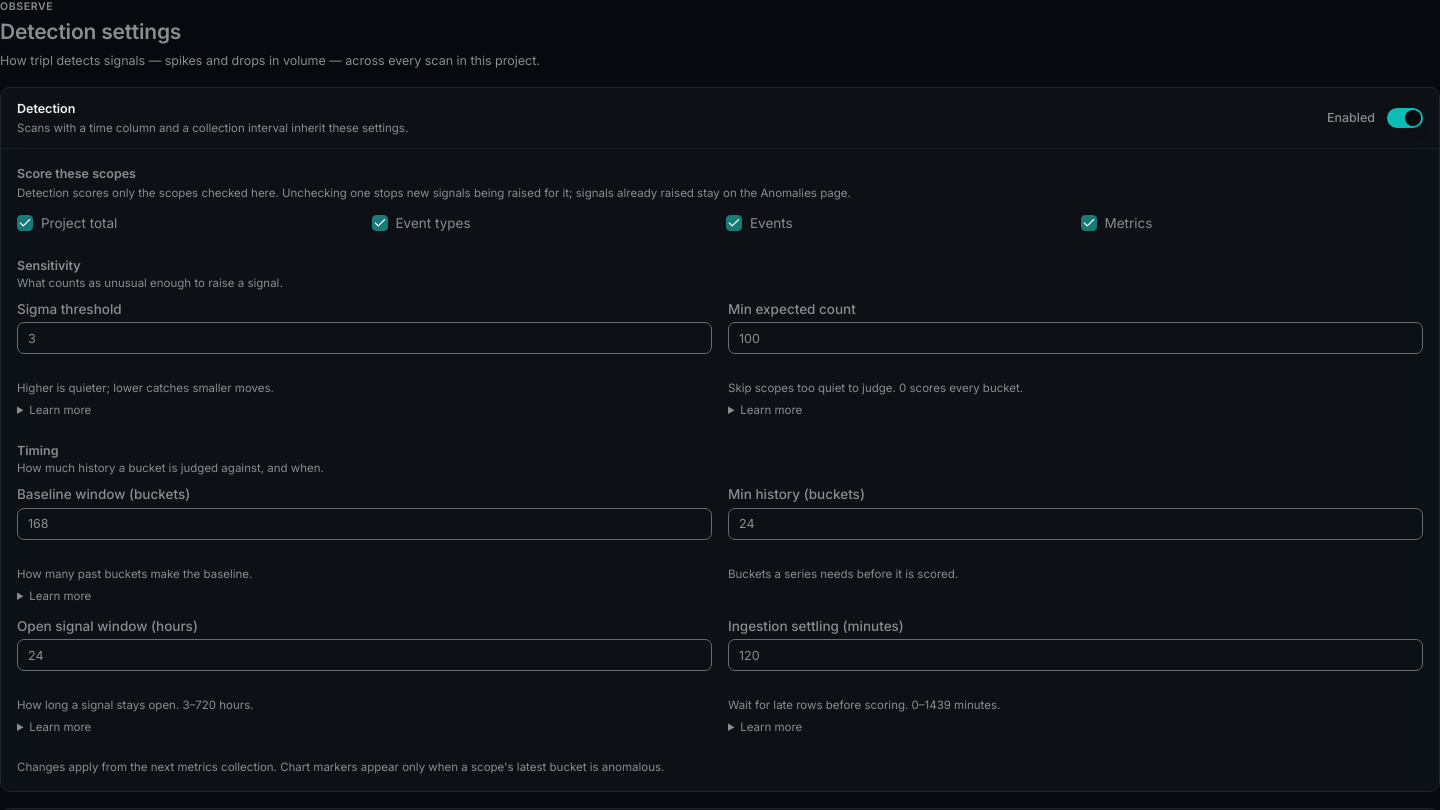
Test case: MonitoringTab — settling allowance vs open signal window (tripl-l429.15) › says a committed value was saved (PLAN-55)
Replace the text in the number field labelled "Sigma threshold" with "4" at (364, 338), box [17,322,712,354]
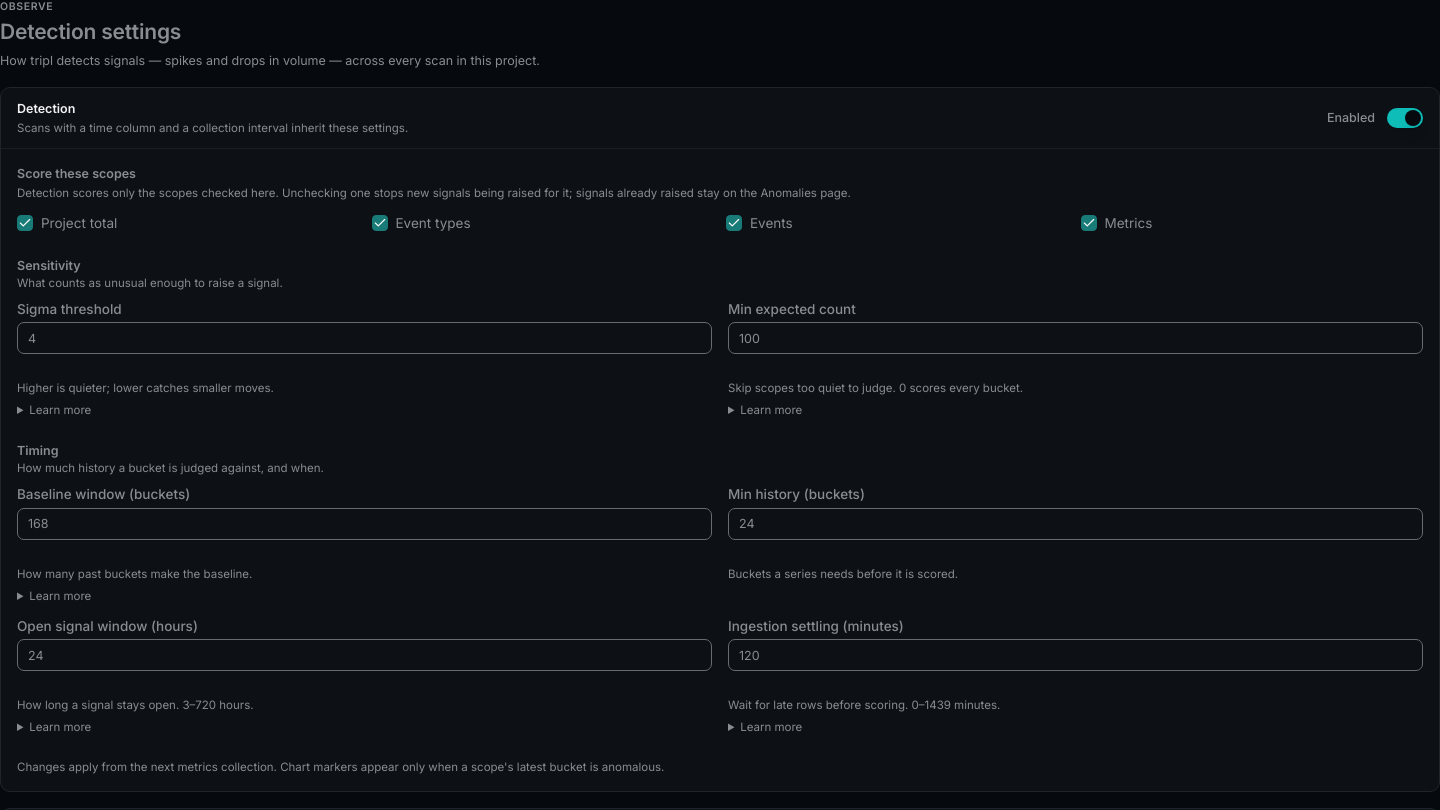
Leave the number field labelled "Sigma threshold", box [17,322,712,354]
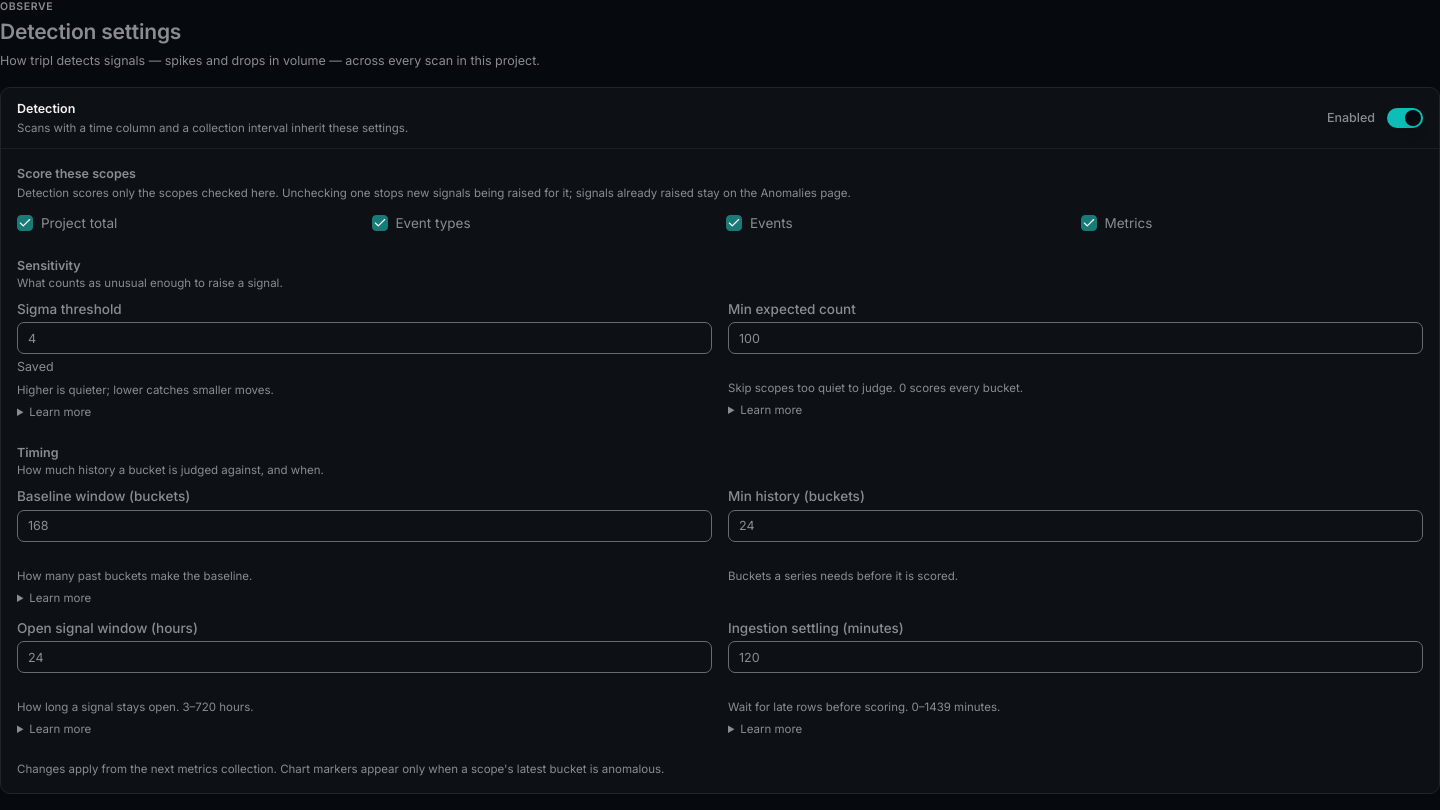
Result: the text "Saved" is shown at [17,359,54,374]
